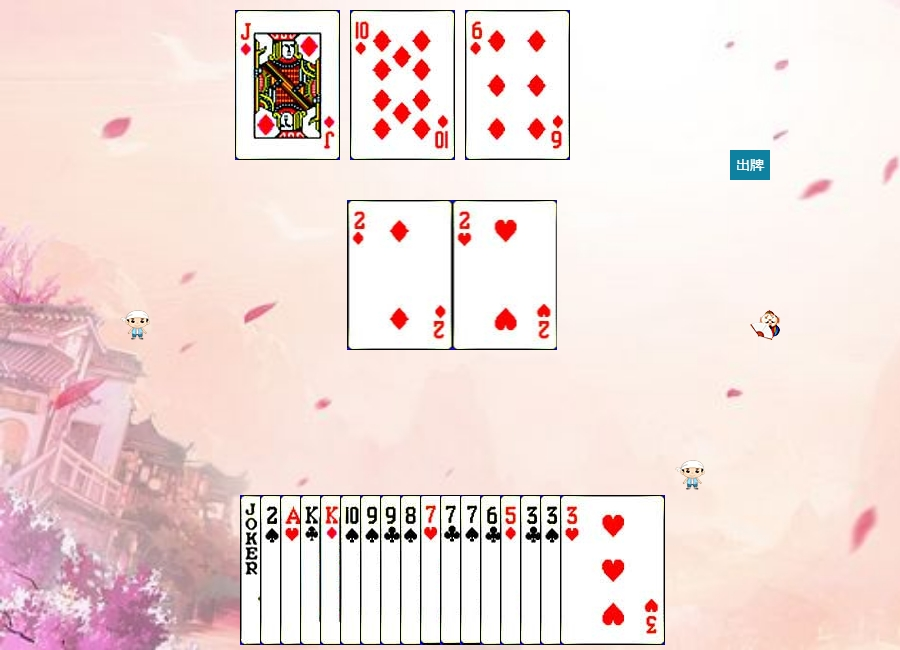10~1: (350, 10, 455, 160)
10~4: (340, 495, 445, 645)
11~1: (235, 10, 340, 160)
13~1: (320, 495, 425, 645)
13~2: (300, 495, 405, 645)
14~3: (280, 495, 385, 645)
15~1: (348, 200, 453, 350)
15~3: (453, 200, 558, 350)
15~4: (260, 495, 365, 645)
17~3: (240, 495, 345, 645)
3~2: (520, 495, 625, 645)
3~3: (560, 495, 665, 645)
3~4: (540, 495, 645, 645)
5~1: (500, 495, 605, 645)
6~1: (465, 10, 570, 160)
6~2: (480, 495, 585, 645)
7~2: (440, 495, 545, 645)
7~3: (420, 495, 525, 645)
7~4: (460, 495, 565, 645)
8~4: (400, 495, 505, 645)
9~2: (380, 495, 485, 645)
9~4: (360, 495, 465, 645)
